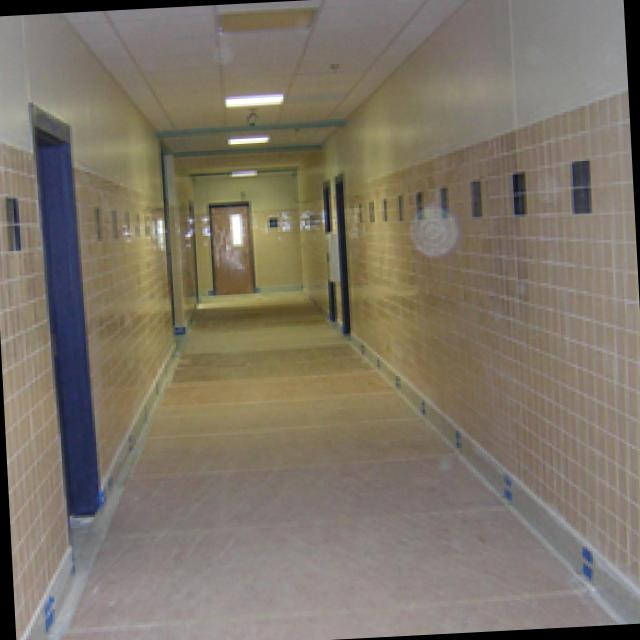ceiling beam: (61, 0, 462, 172)
door bars: (206, 199, 251, 291)
door frame: (29, 112, 97, 556)
floor -X: (50, 293, 611, 640)
wall clock: (318, 0, 640, 620), (0, 18, 174, 640)
